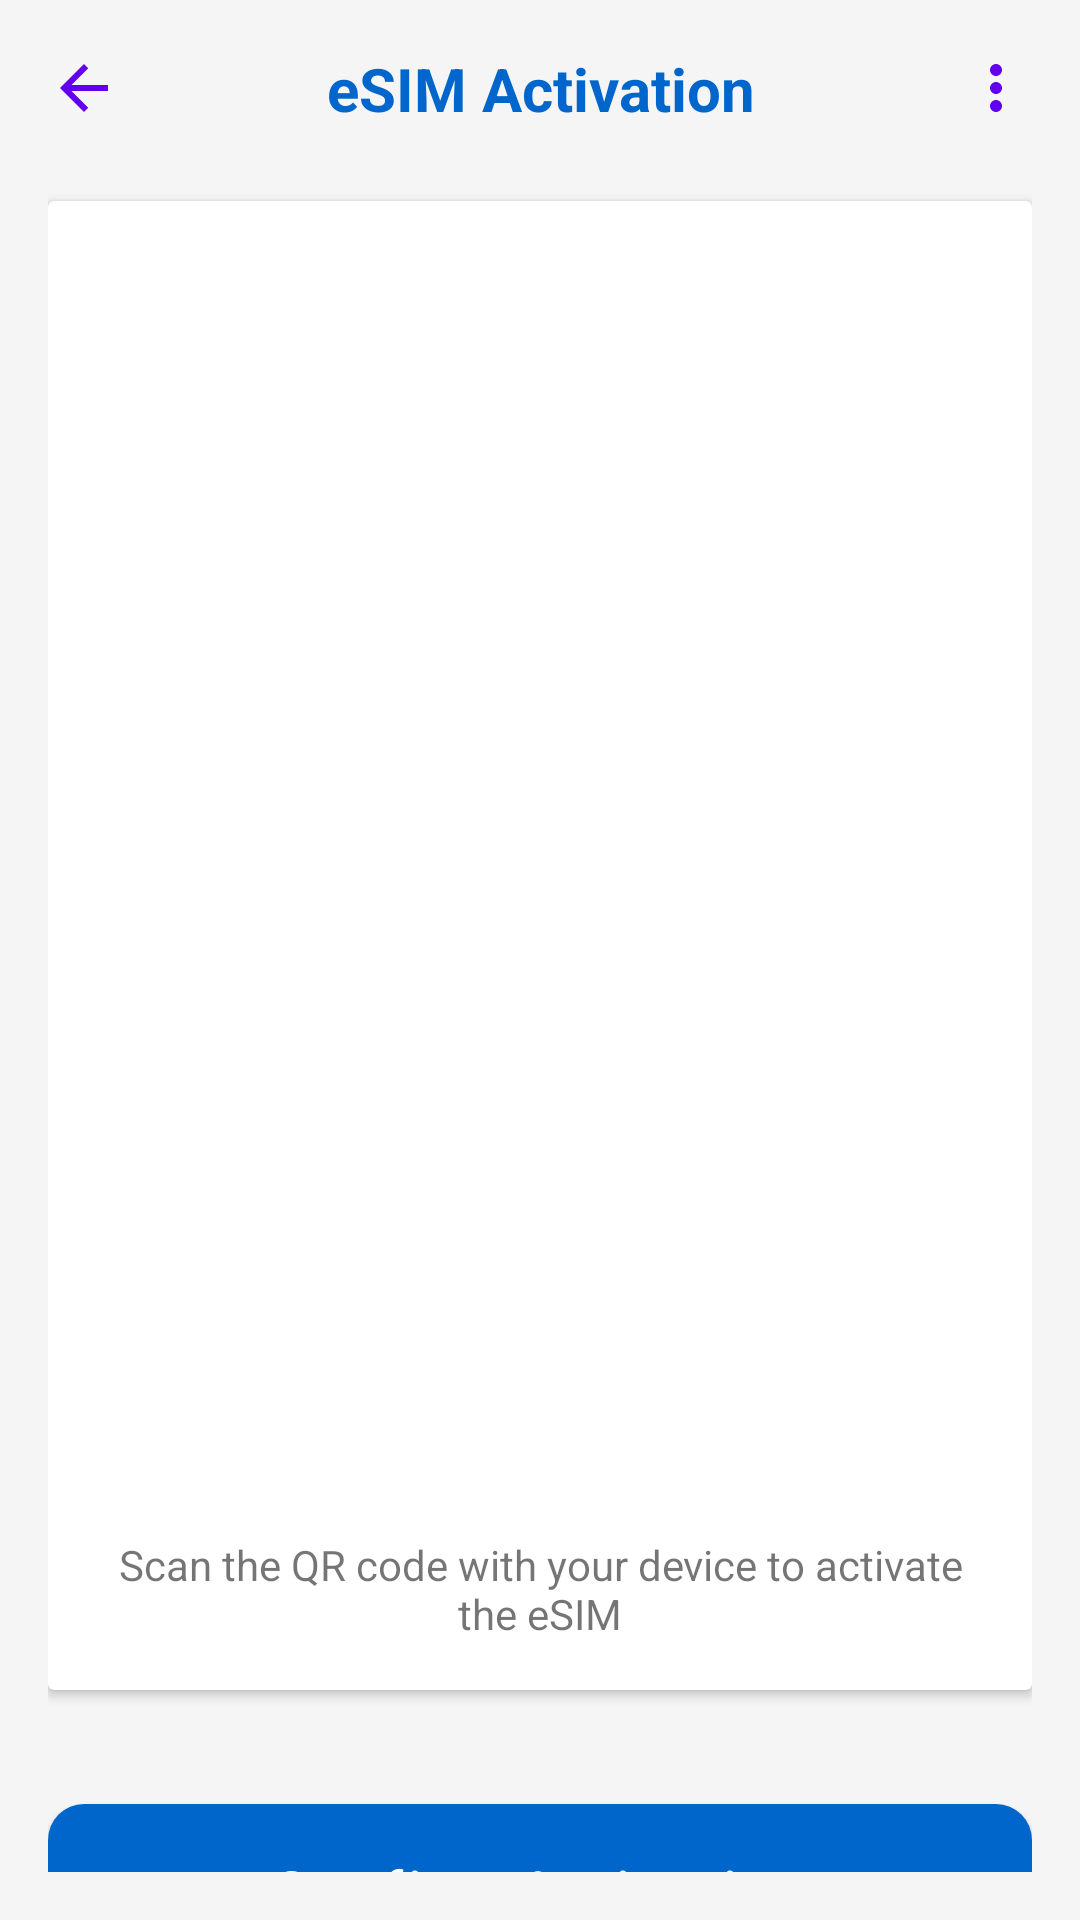

Screen size 1080×1920. Icon name, then its center in pixels as [x,y]:
Back: [84,88]
Menu: [996,88]
